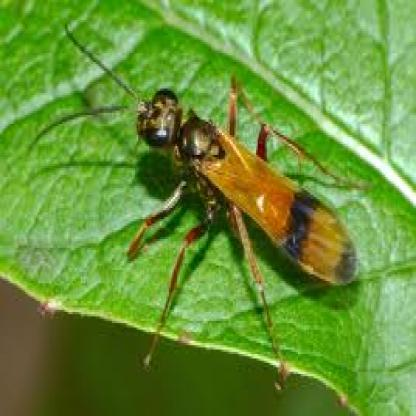sawfly: (30, 16, 376, 392)
